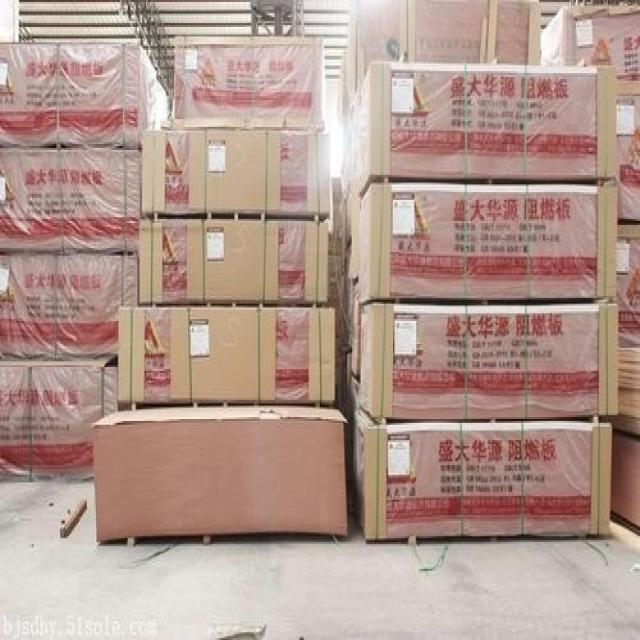box: (348, 60, 618, 198), (356, 402, 612, 540), (93, 404, 347, 542), (358, 183, 618, 304), (358, 302, 618, 421), (116, 306, 335, 406), (347, 0, 541, 106), (141, 129, 329, 221), (0, 38, 157, 148), (140, 219, 329, 306), (0, 148, 142, 254), (0, 254, 140, 361), (173, 37, 325, 133), (0, 357, 116, 482), (540, 6, 640, 96), (617, 221, 640, 361), (616, 96, 640, 223), (611, 431, 640, 536), (155, 79, 168, 129)
